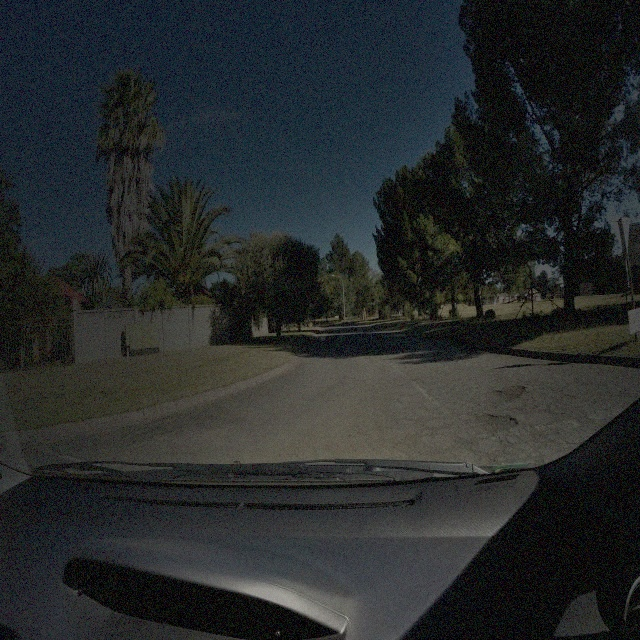pothole: (472, 408, 520, 437), (492, 379, 527, 404)
